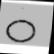no answer: (2, 18, 38, 45)
